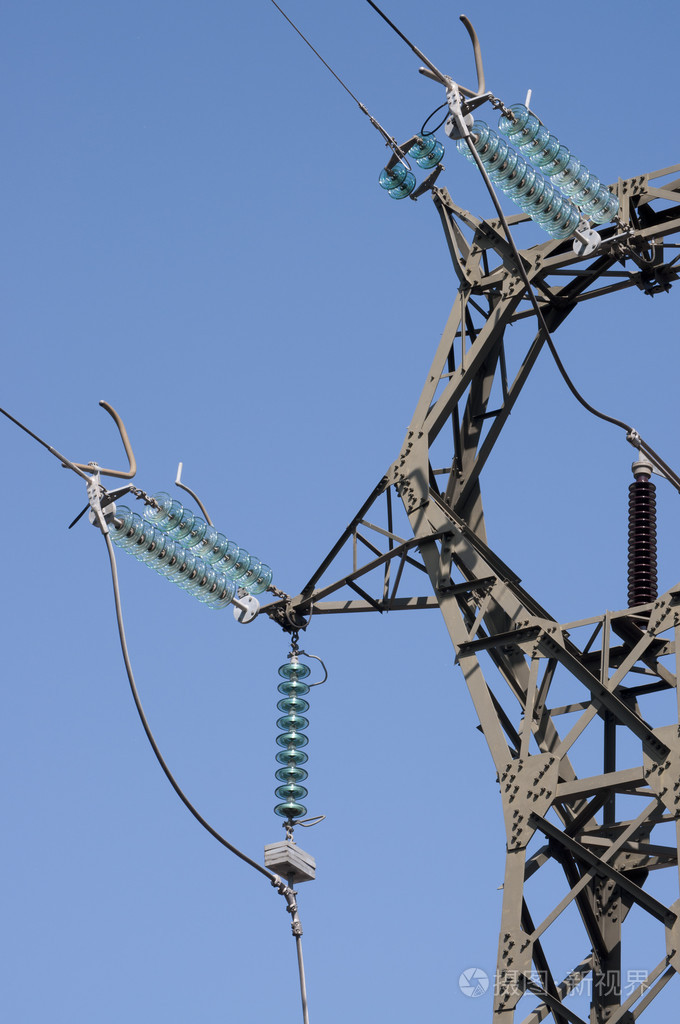insulator: (458, 108, 620, 238), (102, 496, 272, 609), (274, 661, 315, 818), (623, 478, 666, 603), (376, 158, 416, 198), (408, 131, 443, 168)
